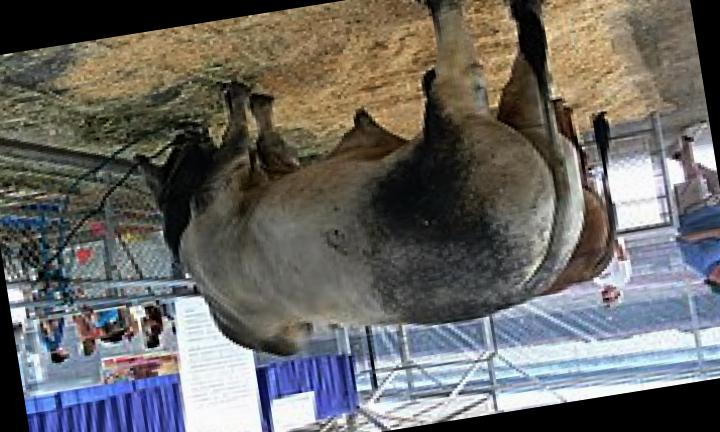Brahman: (137, 0, 583, 356)
